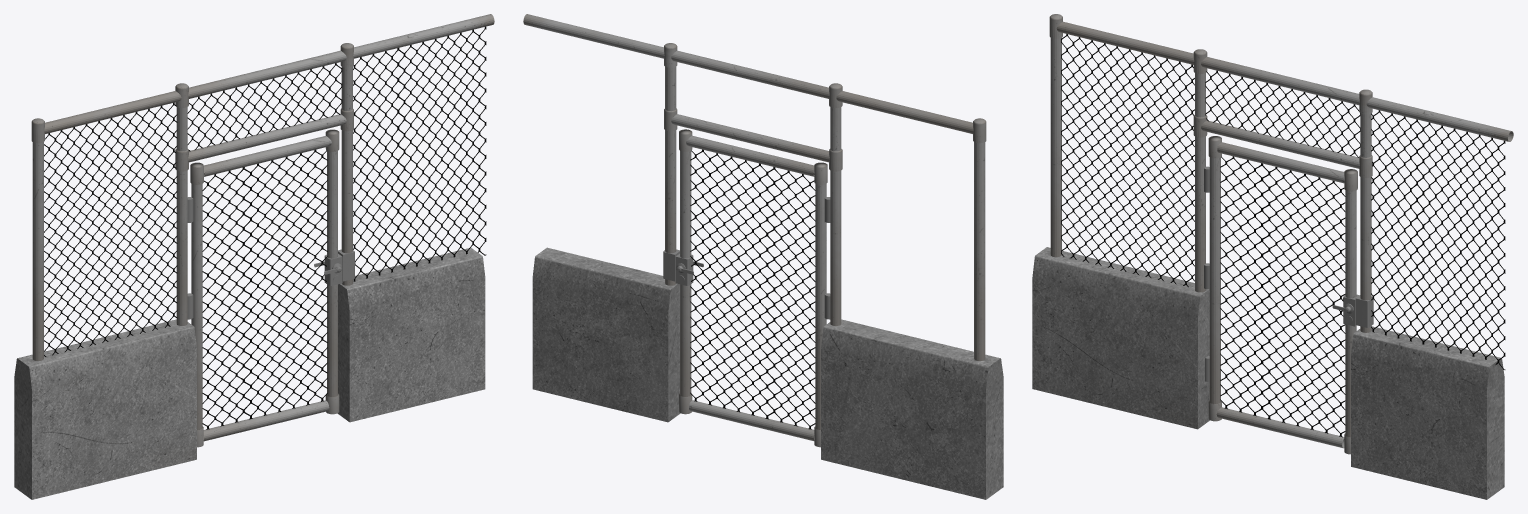
The model's file is chain_wall_door_straight.fbx.
3 views of the same model, side by side, from view 1: azimuth 30°, elevation 25°; view 2: azimuth 150°, elevation 25°; view 3: azimuth 330°, elevation 25° (orthographic).
Parts seen in each view (by area): view 1: chain_wall_door_straight; view 2: chain_wall_door_straight; view 3: chain_wall_door_straight.
Boxes of the visible parts, box(x1,y1,x2,y2) form: chain_wall_door_straight: box(14, 14, 494, 499); chain_wall_door_straight: box(523, 14, 1003, 499); chain_wall_door_straight: box(1032, 14, 1513, 499).
Bounding box in the file's own units: 3.1 × 2.34 × 0.2.
Materials: 2 (2 with a texture image).
